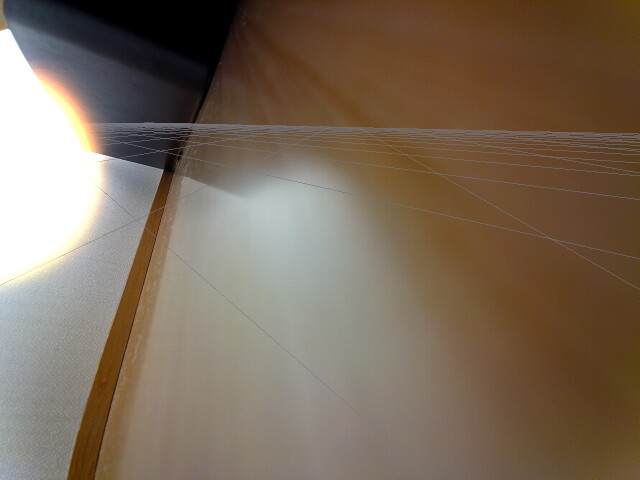firebig: (0, 49, 101, 291)
